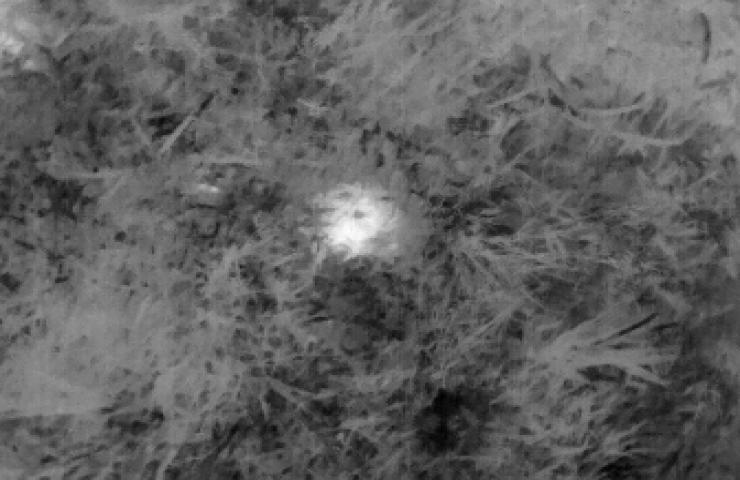landmines: (316, 180, 403, 260)
